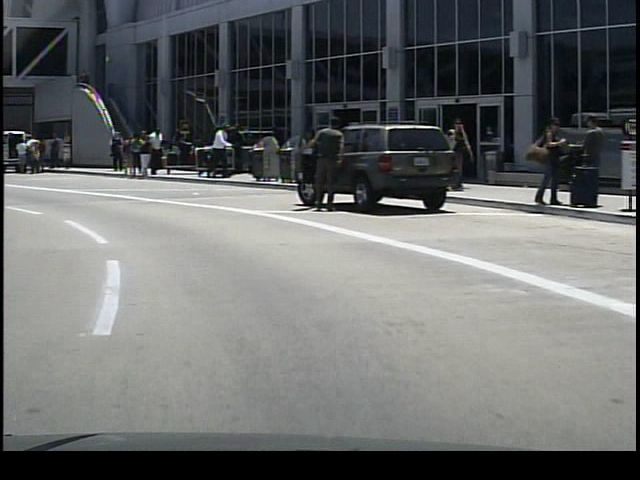person: (303, 115, 343, 220), (524, 117, 562, 209), (570, 113, 605, 206), (444, 115, 474, 197), (207, 120, 232, 182), (43, 129, 65, 176), (132, 130, 152, 180), (102, 130, 122, 175), (147, 125, 163, 179), (25, 132, 44, 176), (11, 137, 29, 178)
